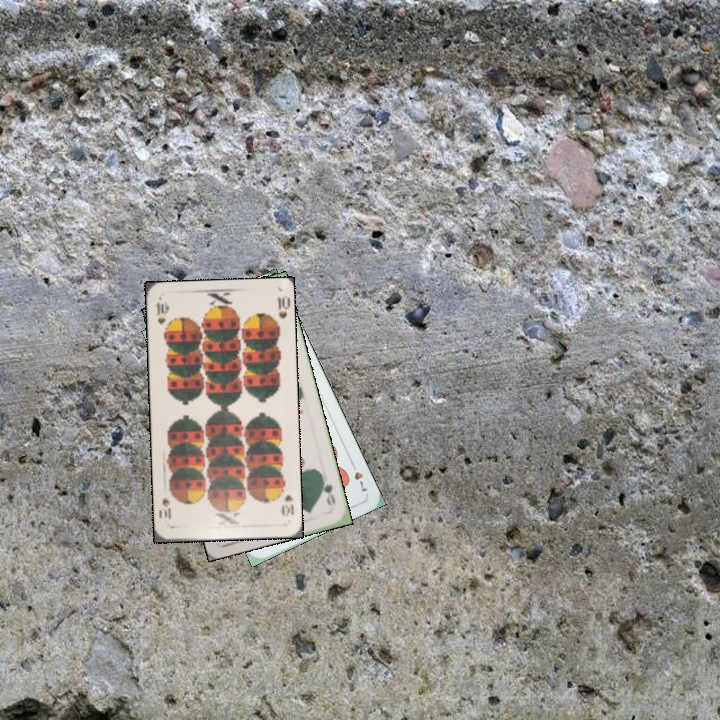GO: (318, 472, 338, 509)
H7: (347, 457, 372, 495)
S10: (277, 481, 296, 519), (151, 298, 169, 327)
